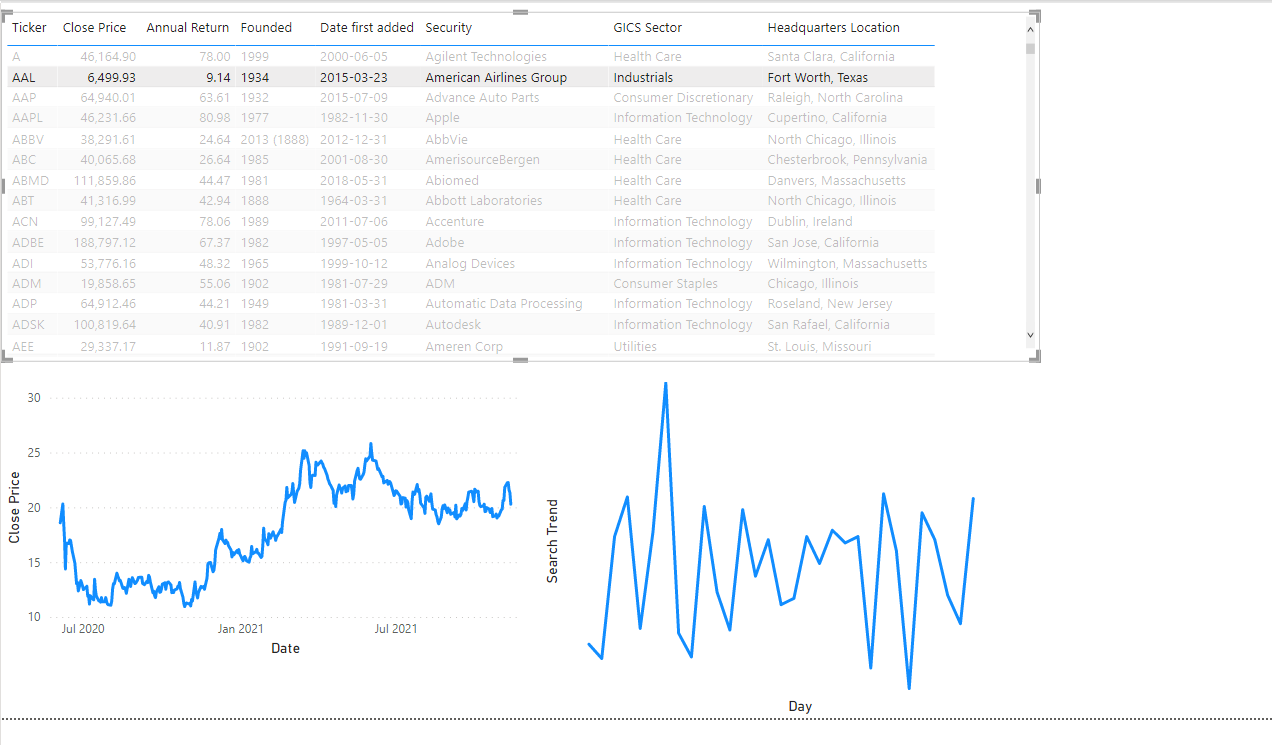

What the dashboard file says about the page in this screenshot:
{"tool":"powerbi","page":{"name":"Page 1","canvas":[1280,720],"ordinal":0},"visuals":[{"type":"lineChart","fields":{"Y":["Sum(HackUTDPowerBI.close)"],"Category":["HackUTDPowerBI.datetime"]},"box":[0,382.2,541.9,280.4],"z":0},{"type":"tableEx","fields":{"Values":["Symbols-info-annual.Ticker","Sum(HackUTDPowerBI.close)","Symbols-info-annual.Annual Return","Symbols-info-annual.Founded","Symbols-info-annual.Date first added","Symbols-info-annual.Security","Symbols-info-annual.GICS Sector","Symbols-info-annual.Headquarters Location"]},"box":[0,8.6,1045,352],"z":1000},{"type":"lineChart","fields":{"Category":["AALsearchTrend.date.Variation.Date Hierarchy.Day"],"Y":["Sum(AALsearchTrend.Group)"]},"box":[541.9,368.4,502.9,352.1],"z":2000}]}

Visuals, with their boxes on the page's 1280x720 design canvas (x1, y1, x2, y2). These are canvas units, not pixel positions in the 1272x745 screenshot, which may show the page scaled, cropped or inside an application window:
lineChart - Sum(HackUTDPowerBI.close) x HackUTDPowerBI.datetime: box=[0, 382, 542, 663]
tableEx - Symbols-info-annual.Ticker x Sum(HackUTDPowerBI.close): box=[0, 9, 1045, 361]
lineChart - AALsearchTrend.date.Variation.Date Hierarchy.Day x Sum(AALsearchTrend.Group): box=[542, 368, 1045, 720]
